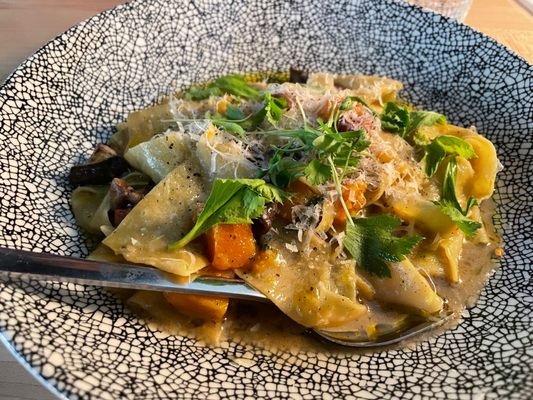sushi: (1, 1, 517, 400)
